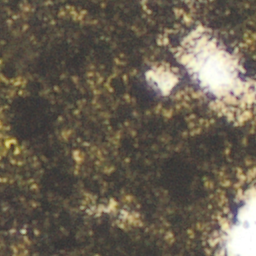cement_matrix: (0, 0, 255, 255), (146, 65, 178, 94), (107, 204, 112, 208), (126, 215, 129, 218)
cracks: (108, 205, 111, 207), (127, 216, 128, 217)
gravel_crushed_stones: (178, 27, 255, 119), (214, 184, 255, 255), (147, 66, 177, 93), (231, 109, 233, 111)
